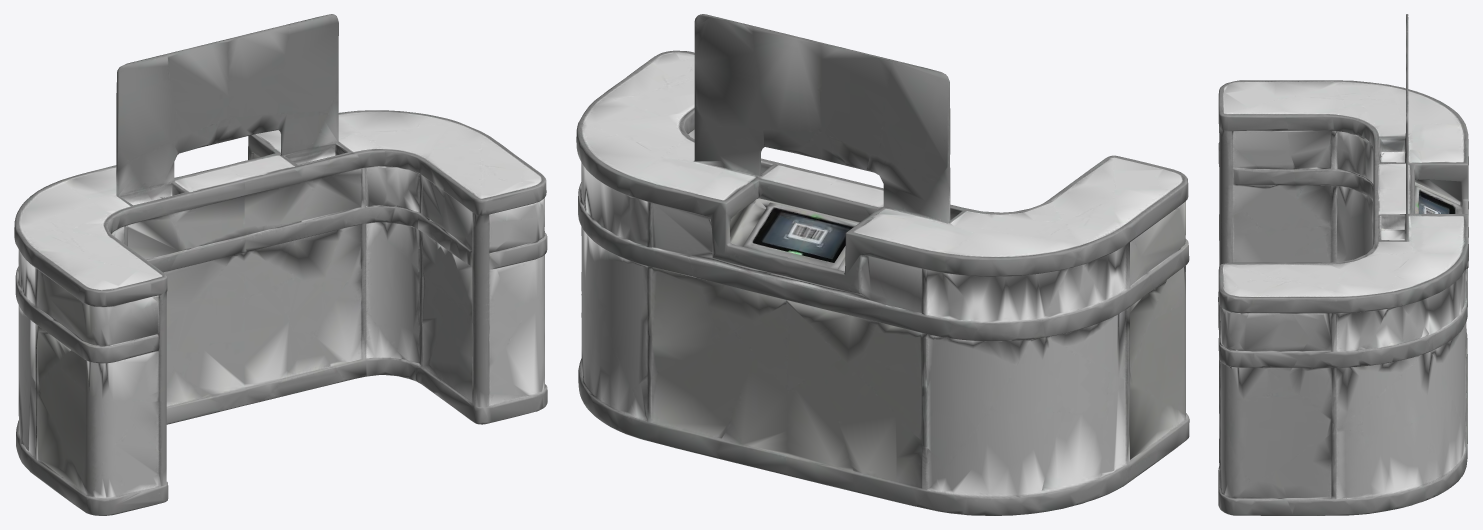
The model's file is intake-desk.glb.
3 views of the same model, side by side, from view 1: azimuth 30°, elevation 25°; view 2: azimuth 150°, elevation 25°; view 3: azimuth 270°, elevation 25° (orthographic). The views are drawn at different scales.
Parts seen in each view (by area): view 1: mesh_node; view 2: mesh_node; view 3: mesh_node.
Part boxes in pixels (bbox=[...]): mesh_node: bbox=[14, 14, 547, 515]; mesh_node: bbox=[576, 14, 1189, 515]; mesh_node: bbox=[1218, 14, 1468, 515].
Bounding box in the file's own units: 1.9 × 1.39 × 0.921.
1 material, 1 textured.
